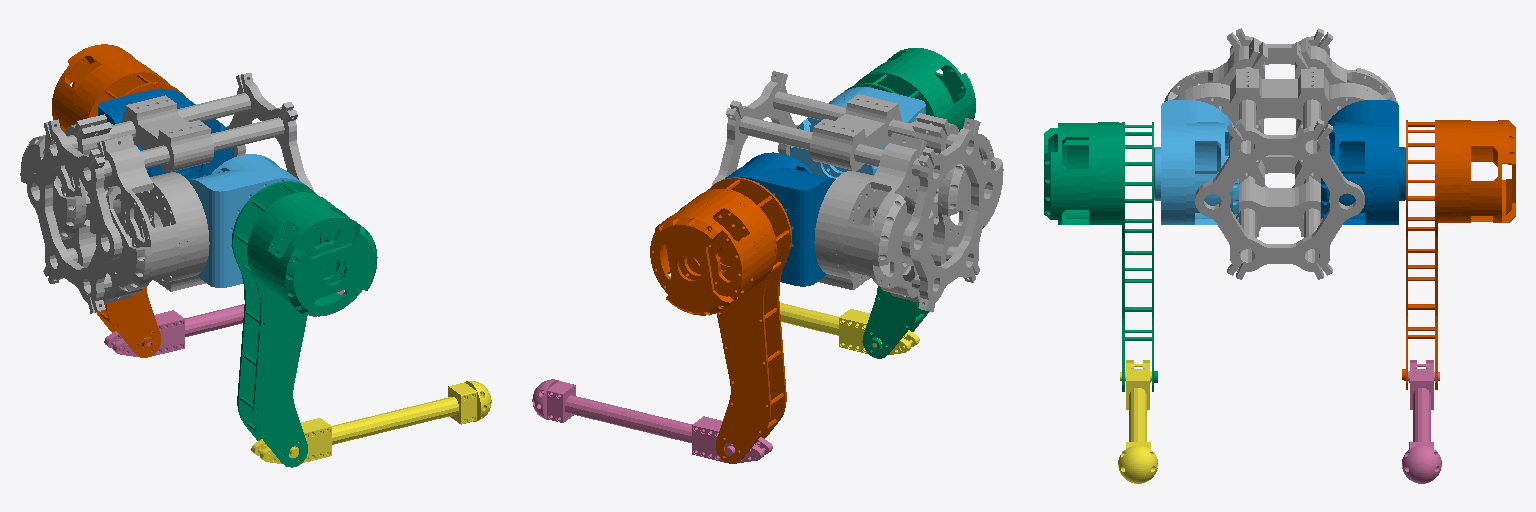
URDF robot description (test9):
<?xml version="1.0" encoding="utf-8"?>
<robot name="test9">
  <link name="base_link">
    <inertial>
      <origin xyz="-0.00632967278263437 0 0" rpy="0 0 0" />
      <mass value="1.59540197641573" />
      <inertia ixx="0.00430953949956777" ixy="3.04408843981558E-19" ixz="-5.14836515246567E-19" iyy="0.00334932732009302" iyz="-3.58412014304642E-05" izz="0.00292007017857893" />
    </inertial>
    <visual>
      <origin xyz="0 0 0" rpy="0 0 0" />
      <geometry><mesh filename="../meshes/base_link.STL" /></geometry>
      <material name=""><color rgba="0.7 0.7 0.7 1" /></material>
    </visual>
    <collision>
      <origin xyz="0.022 0 0" rpy="0 0 0" />
      <geometry>
        <box size="0.25 0.1 0.14" />
      </geometry>
    </collision>
  </link>

  <link name="roll_right">
    <inertial>
      <origin xyz="0.0217317694784342 0 -0.0556701170438579" rpy="0 0 0" />
      <mass value="0.550928882928894" />
      <inertia ixx="0.00122241055922876" ixy="1.19109332922738E-09" ixz="0.000114038922426766" iyy="0.000781709844278943" iyz="7.69022555279426E-08" izz="0.000765390353880947" />
    </inertial>
    <visual>
      <origin xyz="0 0 0" rpy="0 0 0" />
      <geometry><mesh filename="../meshes/roll_right.STL" /></geometry>
    </visual>
    <collision>
      <origin xyz="0.02 0 -0.05" rpy="0 0 0" />
      <geometry>
        <cylinder radius="0.04" length="0.08" />
      </geometry>
    </collision>
  </link>
  <joint name="hip1r" type="revolute">
    <origin xyz="0 -0.075 0" rpy="1.5708 0 -1.5708" />
    <parent link="base_link" />
    <child link="roll_right" />
    <axis xyz="0 0 -1" />
    <limit lower="-3.14" upper="3.14" effort="20" velocity="20" />
    <dynamics damping="0.1" friction="0.05" />
  </joint>

  <link name="thigh_right">
    <inertial>
      <origin xyz="-0.0439840122107188 0.00495832588280781 0.0427564323742623" rpy="0 0 0" />
      <mass value="0.638176275712634" />
      <inertia ixx="0.000569017818624953" ixy="0.000196066705781529" ixz="-1.55290195499955E-11" iyy="0.00274725597901485" iyz="-2.86608322430025E-11" izz="0.00328799958763108" />
    </inertial>
    <visual>
      <origin xyz="0 0 0" rpy="0 0 0" />
      <geometry><mesh filename="../meshes/thigh_right.STL" /></geometry>
    </visual>
    <collision>
      <origin xyz="-0.125 0 0.01" rpy="0 1.5708 0" />
      <geometry>
        <cylinder radius="0.035" length="0.25" />
      </geometry>
    </collision>
  </link>
  <joint name="hip2r" type="revolute">
    <origin xyz="0.065499 0 -0.080501" rpy="1.5708 0 1.5708" />
    <parent link="roll_right" />
    <child link="thigh_right" />
    <axis xyz="0 0 1" />
    <limit lower="-3.14" upper="3.14" effort="20" velocity="20" />
    <dynamics damping="0.1" friction="0.05" />
  </joint>

  <link name="knee_right">
    <inertial>
      <origin xyz="0.0891269231354579 0 0" rpy="0 0 0" />
      <mass value="0.149283966309758" />
      <inertia ixx="1.75137166735024E-05" ixy="0" ixz="0" iyy="0.000123415377248099" iyz="0" izz="0.000128806092571388" />
    </inertial>
    <visual>
      <origin xyz="0 0 0" rpy="0 0 0" />
      <geometry><mesh filename="../meshes/knee_right.STL" /></geometry>
    </visual>
    <collision>
      <origin xyz="0.115 0 0" rpy="0 1.5708 0" />
      <geometry>
        <cylinder radius="0.012" length="0.16" />
      </geometry>
    </collision>
    <collision name="foot_contact_right">
      <origin xyz="0.23 0 0" rpy="0 0 0" />
      <geometry>
        <sphere radius="0.02241" />
      </geometry>
    </collision>
  </link>
  <joint name="hip3r" type="revolute">
    <origin xyz="-0.25 0 0.018" rpy="0 0 -1.5708" />
    <parent link="thigh_right" />
    <child link="knee_right" />
    <axis xyz="0 0 1" />
    <limit lower="-1.0" upper="1.2" effort="20" velocity="20" />
    <dynamics damping="0.1" friction="0.05" />
  </joint>

  <link name="roll_left">
    <inertial>
      <origin xyz="0.0217317694784341 0 0.0556700712437631" rpy="0 0 0" />
      <mass value="0.550928882928894" />
      <inertia ixx="0.00122241055922876" ixy="-1.19106531148211E-09" ixz="-0.000114038922393985" iyy="0.00078170984427925" iyz="7.69022555766531E-08" izz="0.000765390353880638" />
    </inertial>
    <visual>
      <origin xyz="0 0 0" rpy="0 0 0" />
      <geometry><mesh filename="../meshes/roll_left.STL" /></geometry>
    </visual>
    <collision>
      <origin xyz="0.02 0 0.05" rpy="0 0 0" />
      <geometry>
        <cylinder radius="0.04" length="0.08" />
      </geometry>
    </collision>
  </link>
  <joint name="hip1l" type="revolute">
    <origin xyz="0 0.075 0" rpy="1.5708 0 1.5708" />
    <parent link="base_link" />
    <child link="roll_left" />
    <axis xyz="0 0 1" />
    <limit lower="-3.14" upper="3.14" effort="20" velocity="20" />
    <dynamics damping="0.1" friction="0.05" />
  </joint>

  <link name="thigh_left">
    <inertial>
      <origin xyz="0.0414038198800671 -0.00495745067329807 -0.0427564323742624" rpy="0 0 0" />
      <mass value="0.638176275712634" />
      <inertia ixx="0.00053187602929387" ixy="0.000198838108346828" ixz="-2.97368911698888E-11" iyy="0.00278439776834593" iyz="-1.33533173941797E-11" izz="0.00328799958763108" />
    </inertial>
    <visual>
      <origin xyz="0 0 0" rpy="0 0 0" />
      <geometry><mesh filename="../meshes/thigh_left.STL" /></geometry>
    </visual>
    <collision>
      <origin xyz="0.125 0 -0.01" rpy="0 1.5708 0" />
      <geometry>
        <cylinder radius="0.035" length="0.25" />
      </geometry>
    </collision>
  </link>
  <joint name="hip2l" type="revolute">
    <origin xyz="0.065499 0 0.0805" rpy="1.5708 0 -1.5708" />
    <parent link="roll_left" />
    <child link="thigh_left" />
    <axis xyz="0 0 -1" />
    <limit lower="-3.14" upper="3.14" effort="20" velocity="20" />
    <dynamics damping="0.1" friction="0.05" />
  </joint>

  <link name="knee_left">
    <inertial>
      <origin xyz="0.089126923135458 0 0" rpy="0 0 0" />
      <mass value="0.149283966309758" />
      <inertia ixx="1.75137166735023E-05" ixy="0" ixz="0" iyy="0.000123415377248099" iyz="0" izz="0.000128806092571388" />
    </inertial>
    <visual>
      <origin xyz="0 0 0" rpy="0 0 0" />
      <geometry><mesh filename="../meshes/knee_left.STL" /></geometry>
    </visual>
    <collision>
      <origin xyz="0.115 0 0" rpy="0 1.5708 0" />
      <geometry>
        <cylinder radius="0.012" length="0.16" />
      </geometry>
    </collision>
    <collision name="foot_contact_left">
      <origin xyz="0.23 0 0" rpy="0 0 0" />
      <geometry>
        <sphere radius="0.02241" />
      </geometry>
    </collision>
  </link>
  <joint name="hip3l" type="revolute">
    <origin xyz="0.25 0 -0.018" rpy="0 0 1.5708" />
    <parent link="thigh_left" />
    <child link="knee_left" />
    <axis xyz="0 0 -1" />
    <limit lower="-1.0" upper="1.2" effort="20" velocity="20" />
    <dynamics damping="0.1" friction="0.05" />
  </joint>
</robot>

--- What the picture shows (computed from the rendered views, not written in the file) ---
The picture shows the robot from 3 angles, left to right: view 1: azimuth 30°, elevation 25°; view 2: azimuth 150°, elevation 25°; view 3: azimuth 270°, elevation 25°; orthographic projection.
Model test9 with 7 links and 6 joints (6 revolute), rooted at base_link, posed all joints at 0.
Links seen in each view (by area): view 1: base_link, thigh_right, thigh_left, roll_right, knee_right, knee_left, roll_left; view 2: base_link, thigh_left, thigh_right, roll_left, knee_left, knee_right, roll_right; view 3: base_link, thigh_right, thigh_left, roll_right, roll_left, knee_left, knee_right.
Link boxes in pixels (x1,y1,x2,y2): base_link: (20, 73, 313, 313); thigh_right: (232, 181, 377, 467); thigh_left: (52, 44, 185, 357); roll_right: (188, 154, 306, 287); knee_right: (251, 381, 491, 463); knee_left: (104, 290, 343, 357); roll_left: (98, 88, 233, 179); base_link: (711, 71, 1003, 311); thigh_left: (650, 177, 791, 463); thigh_right: (845, 48, 975, 358); roll_left: (725, 152, 835, 286); knee_left: (532, 379, 772, 463); knee_right: (709, 303, 919, 354); roll_right: (790, 87, 925, 178); base_link: (1164, 28, 1396, 279); thigh_right: (1044, 122, 1157, 391); thigh_left: (1402, 120, 1515, 389); roll_right: (1154, 100, 1238, 224); roll_left: (1321, 100, 1405, 224); knee_left: (1402, 360, 1441, 483); knee_right: (1118, 360, 1157, 483).
Bounding box of the posed robot: 0.4295 × 0.5262 × 0.3695 m (x, y, z).
Meshes: 7 distinct files referenced, 7 mesh visuals loaded (7 binary STL).
